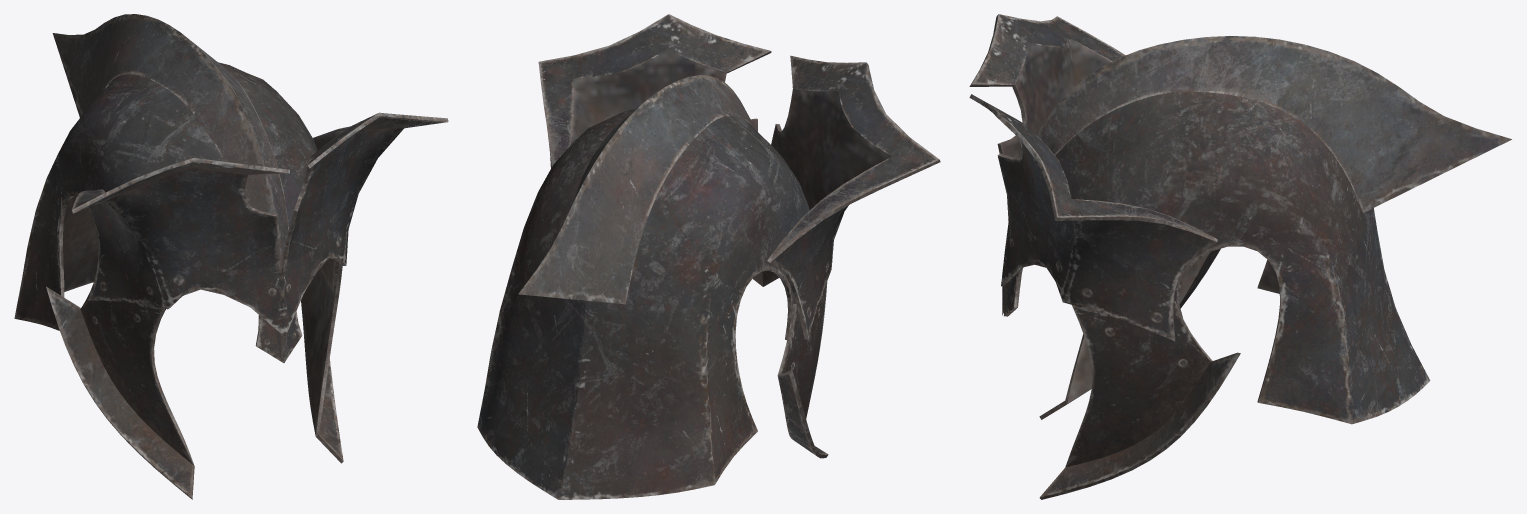
Rendered from sk_dg_uruk_helmet_elite_h.fbx.
3 views of the same model, side by side, from view 1: azimuth 30°, elevation 25°; view 2: azimuth 150°, elevation 25°; view 3: azimuth 270°, elevation 25° (orthographic). The views are drawn at different scales.
Visible parts, largest first — view 1: sk_dg_uruk_helmet_elite_h; view 2: sk_dg_uruk_helmet_elite_h; view 3: sk_dg_uruk_helmet_elite_h.
Part boxes in pixels (box(x1,y1,x2,y2)): sk_dg_uruk_helmet_elite_h: box(14, 14, 448, 499); sk_dg_uruk_helmet_elite_h: box(477, 14, 940, 499); sk_dg_uruk_helmet_elite_h: box(969, 14, 1511, 499).
Bounding box in the file's own units: 0.3426 × 0.3902 × 0.3362.
Materials: 1 (1 with a texture image).
